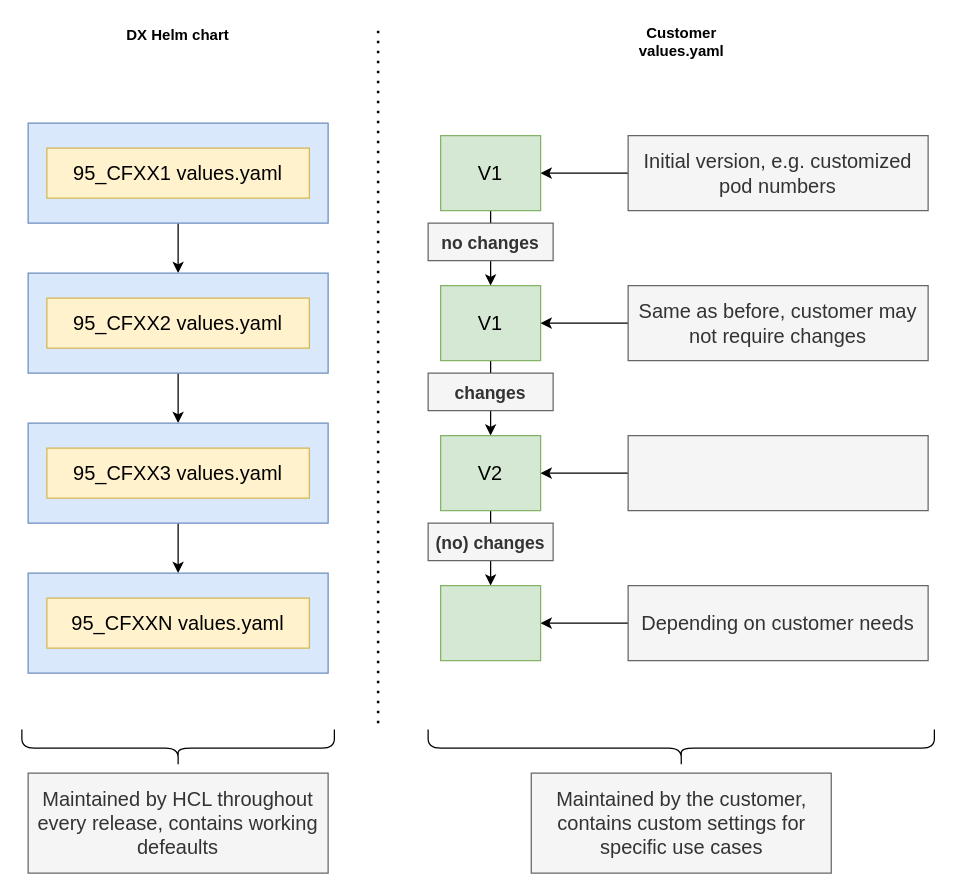
This 956x895 diagram has some shape labels left out. Each missing label, with the box of its shape:
Customer further customized dx deployment, e.g. thresholds: (627, 434, 928, 511)
V2..N: (439, 584, 541, 661)
